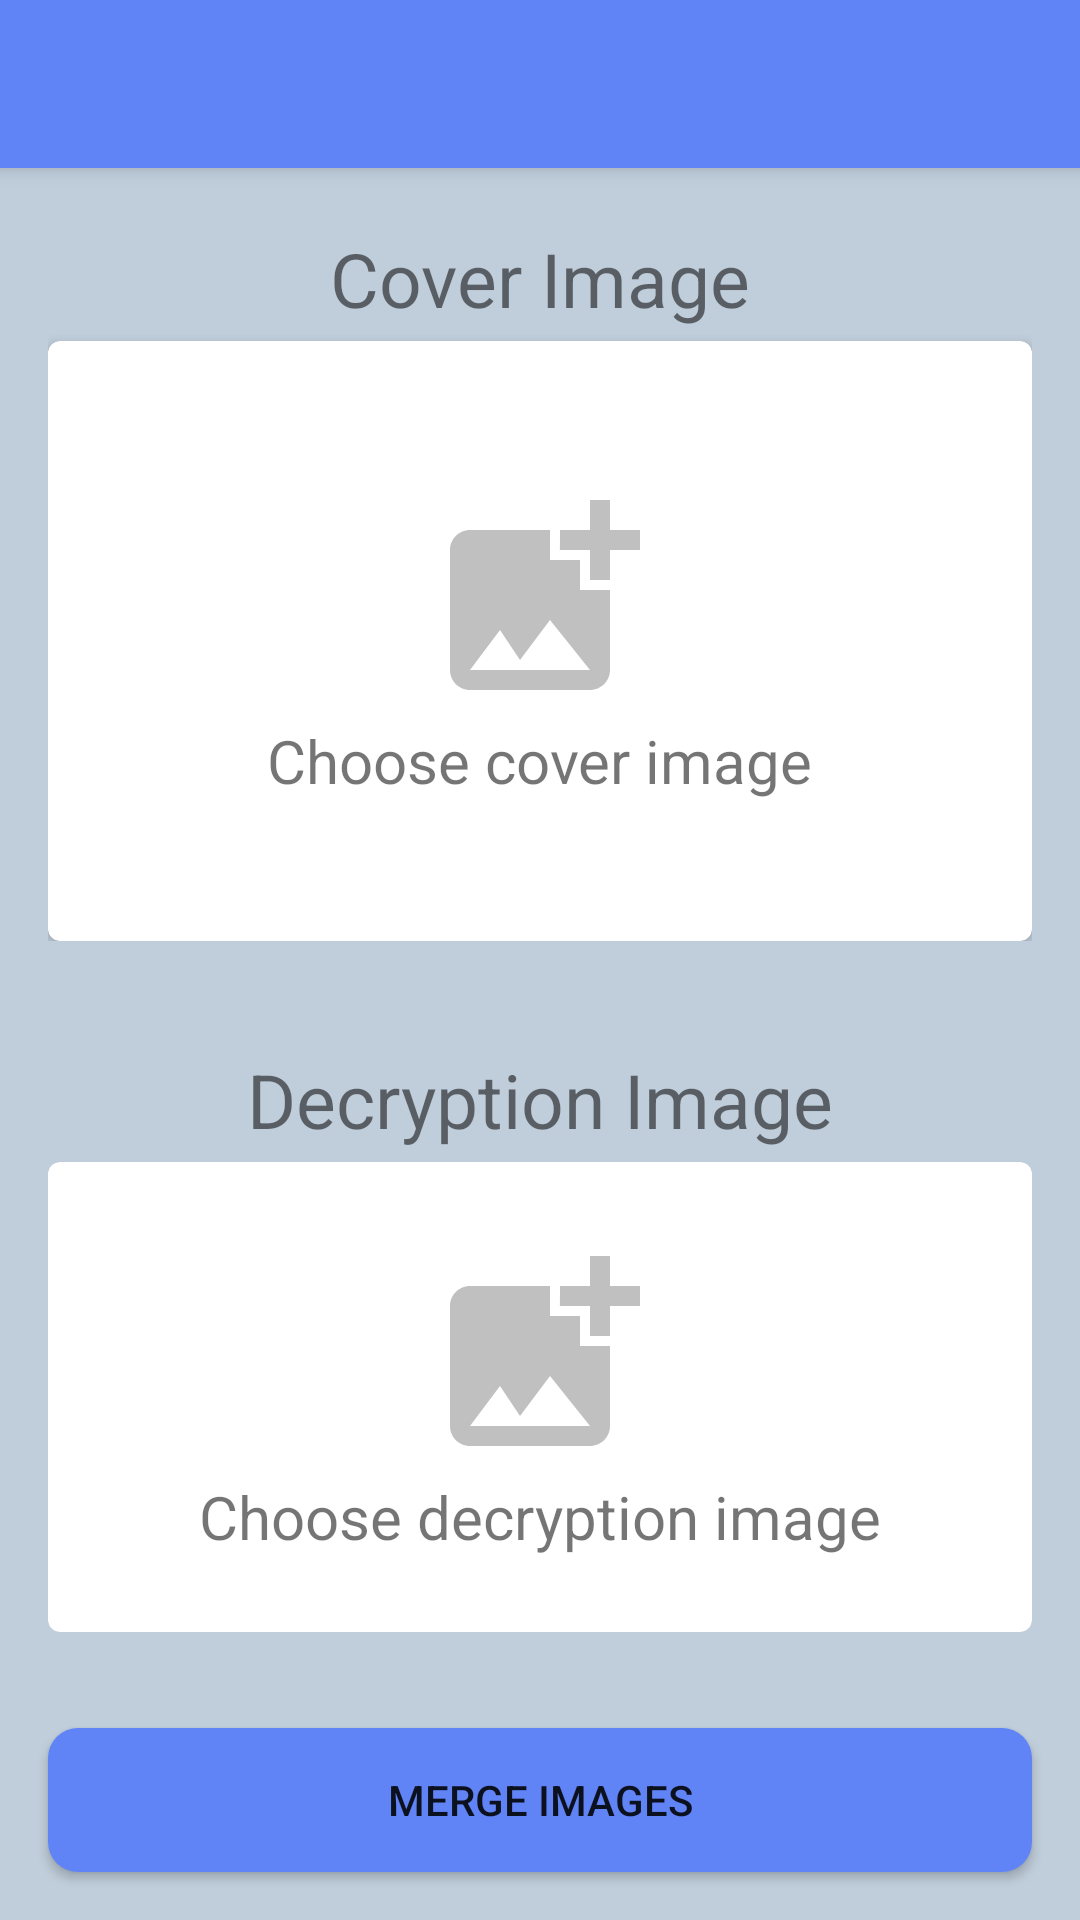

Icons on this 1080w x 1920h Android screen, each with its box as (x1, y1, x2, y2):
add photo alternate: (450, 500, 640, 690), (450, 1256, 640, 1446)
